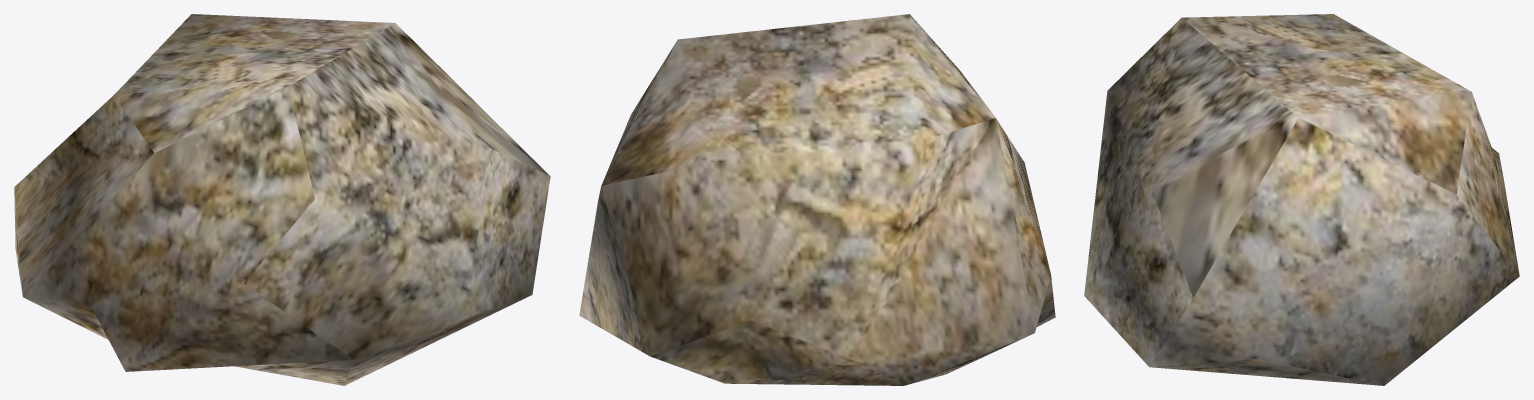
The model's file is granite-low.glb.
3 views of the same model, side by side, from view 1: azimuth 30°, elevation 25°; view 2: azimuth 150°, elevation 25°; view 3: azimuth 270°, elevation 25° (orthographic). The views are drawn at different scales.
Visible parts, largest first — view 1: Granite; view 2: Granite; view 3: Granite.
Boxes of the visible parts, x1,y1,x2,y2 form: Granite: (14,14,550,385); Granite: (579,14,1055,385); Granite: (1084,14,1519,385).
Bounding box in the file's own units: 0.9619 × 0.6499 × 0.8128.
1 material, 1 textured.
